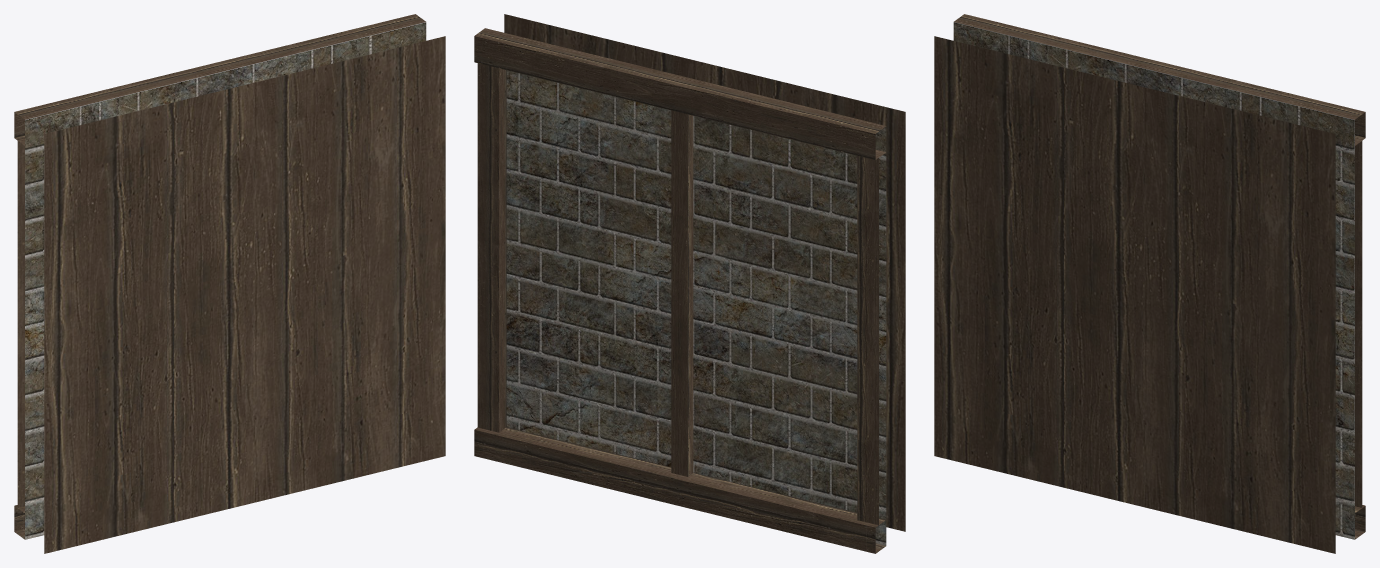
Rendered from ARC1010208.fbx.
3 views of the same model, side by side, from view 1: azimuth 30°, elevation 25°; view 2: azimuth 150°, elevation 25°; view 3: azimuth 330°, elevation 25° (orthographic).
Visible parts, largest first — view 1: smARC1010208; view 2: smARC1010208; view 3: smARC1010208.
Boxes of the visible parts, x1,y1,x2,y2 form: smARC1010208: (14, 14, 445, 553); smARC1010208: (474, 14, 905, 553); smARC1010208: (934, 14, 1365, 553).
Size of the model in its own units: 268 by 268 by 34.9.
Materials: 1 (1 with a texture image).
